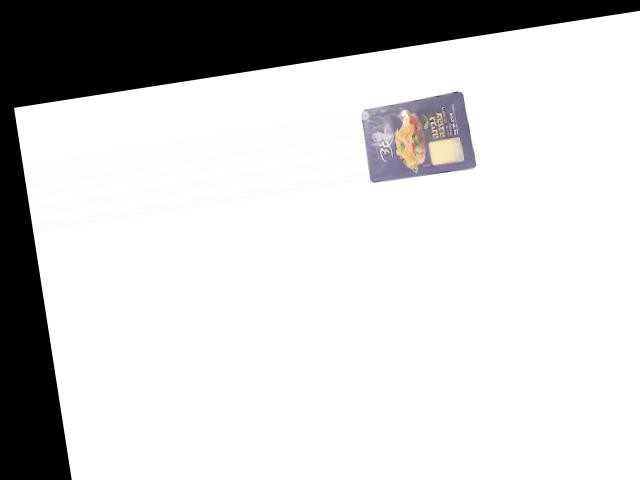cheese: (357, 88, 476, 184)
